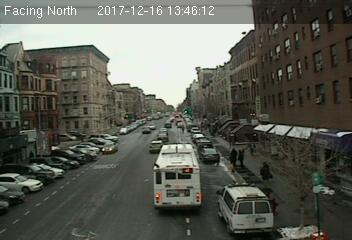bus: (153, 143, 204, 214)
car: (201, 148, 219, 162), (149, 140, 165, 153), (101, 142, 117, 153), (157, 134, 167, 139)
pedestrian: (228, 148, 240, 172), (259, 159, 271, 181), (236, 149, 245, 170)
police: (215, 181, 272, 236)
